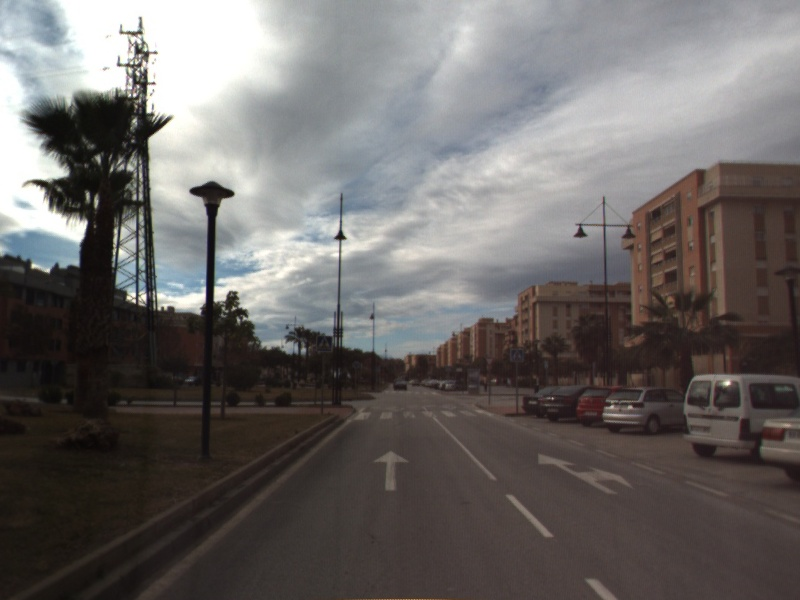STRAIGHT: (372, 448, 411, 492)
STRAIGHT_RIGHT: (536, 451, 635, 496)
